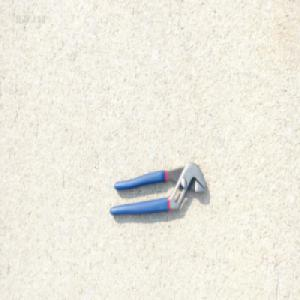Pliers: (108, 161, 207, 217)
